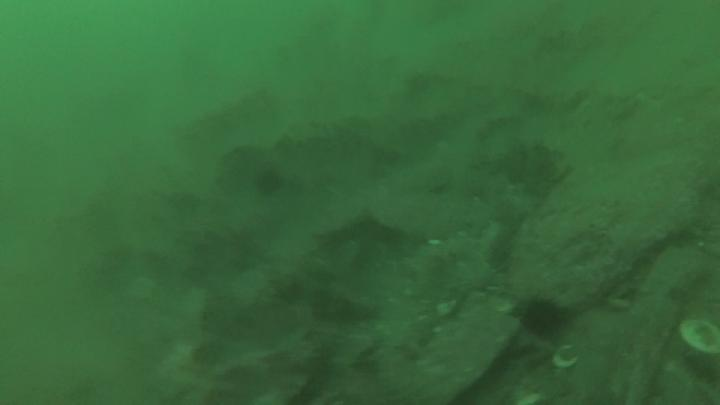echinus: (524, 298, 563, 340), (255, 170, 283, 195)
